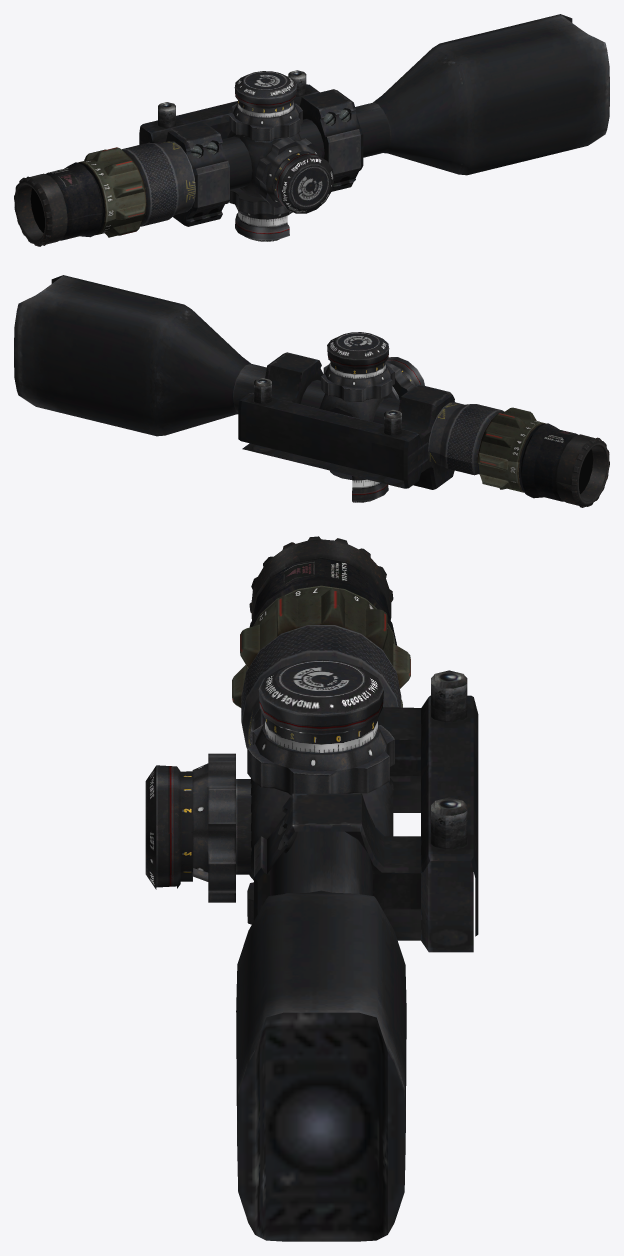
The model's file is t6_wpn_sniper_xpr50_scope_view_LOD0.obj.
3 views of the same model, one above another, from view 1: azimuth 30°, elevation 25°; view 2: azimuth 150°, elevation 25°; view 3: azimuth 270°, elevation 25° (orthographic). The views are drawn at different scales.
Parts seen in each view (by area): view 1: mtl_t6_wpn_sniper_xpr50_scope, mtl_t6_wpn_sniper_xpr50_scope_camo2, mtl_t6_wpn_sniper_ballista_lens; view 2: mtl_t6_wpn_sniper_xpr50_scope, mtl_t6_wpn_sniper_xpr50_scope_camo2, mtl_t6_wpn_sniper_ballista_lens; view 3: mtl_t6_wpn_sniper_xpr50_scope, mtl_t6_wpn_sniper_xpr50_scope_camo2.
Part boxes in pixels (left/top/right/bottom): mtl_t6_wpn_sniper_xpr50_scope: left=45, top=14, right=609, bottom=240; mtl_t6_wpn_sniper_xpr50_scope_camo2: left=14, top=70, right=334, bottom=246; mtl_t6_wpn_sniper_ballista_lens: left=30, top=188, right=44, bottom=232; mtl_t6_wpn_sniper_xpr50_scope: left=14, top=275, right=578, bottom=501; mtl_t6_wpn_sniper_xpr50_scope_camo2: left=254, top=332, right=609, bottom=507; mtl_t6_wpn_sniper_ballista_lens: left=579, top=449, right=593, bottom=493; mtl_t6_wpn_sniper_xpr50_scope: left=236, top=558, right=478, bottom=1241; mtl_t6_wpn_sniper_xpr50_scope_camo2: left=145, top=536, right=467, bottom=924.
Bounding box in the file's own units: 34.14 × 8.84 × 8.81.
